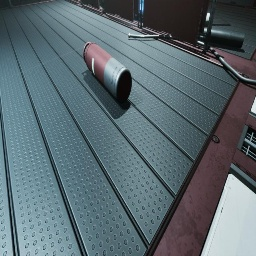0: (204, 13, 210, 27)
NitrogenTank ,: (83, 42, 132, 104)
